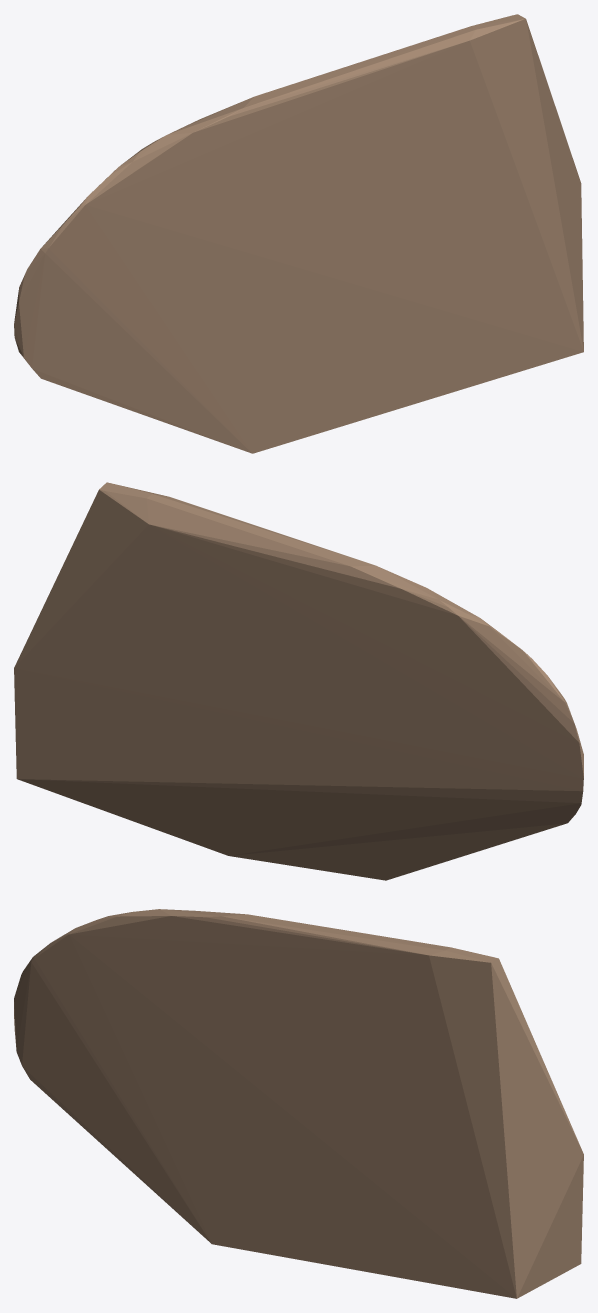
File: serviceTool_refrigerant_leak_detector_b01.glb
The picture shows the model from 3 angles, top to bottom: view 1: azimuth 30°, elevation 25°; view 2: azimuth 150°, elevation 25°; view 3: azimuth 330°, elevation 25°; orthographic projection. The views are drawn at different scales.
Visible parts, largest first — view 1: geometry_0; view 2: geometry_0; view 3: geometry_0.
Part boxes in pixels (x1,y1,x2,y2): geometry_0: [14, 14, 583, 453]; geometry_0: [14, 482, 583, 880]; geometry_0: [14, 909, 583, 1298].
Size of the model in its own units: 0.469 by 0.2762 by 0.0512.
